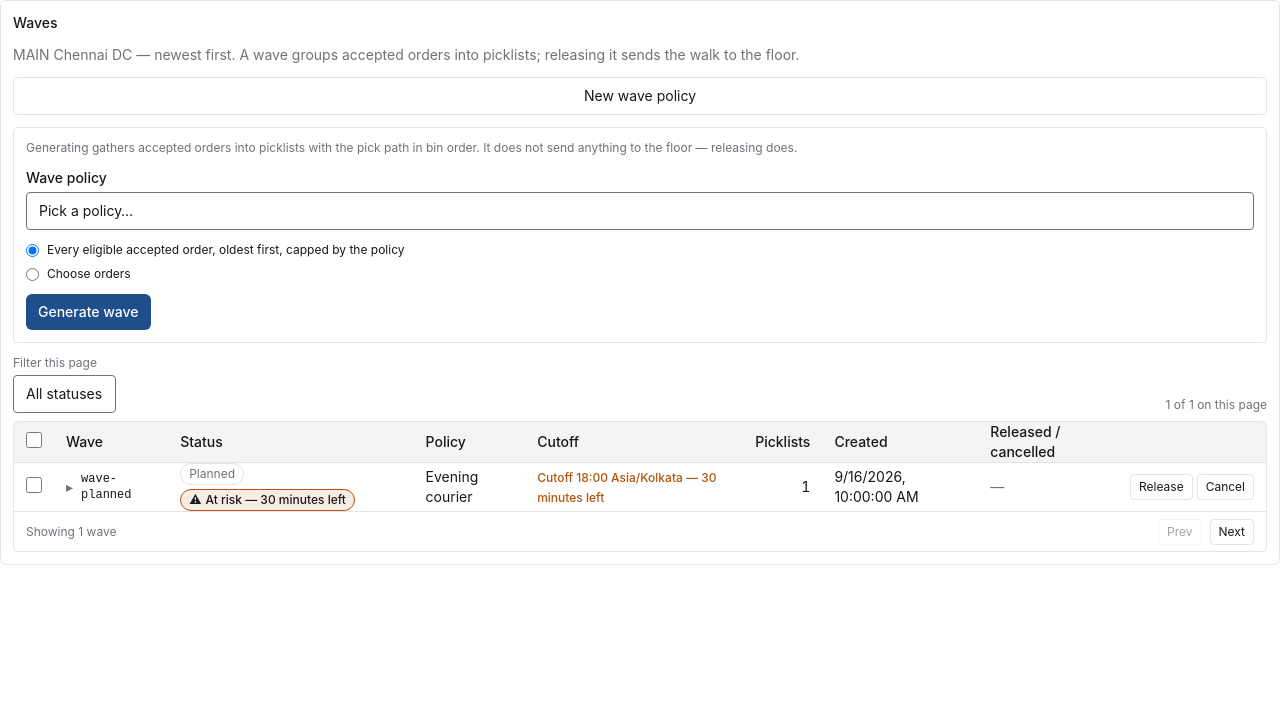
pressing the row actions › a mutation refreshes the list and returns it to page one
Step 1. Click the button "Next" → (1232, 532), box [1210,518,1254,544]
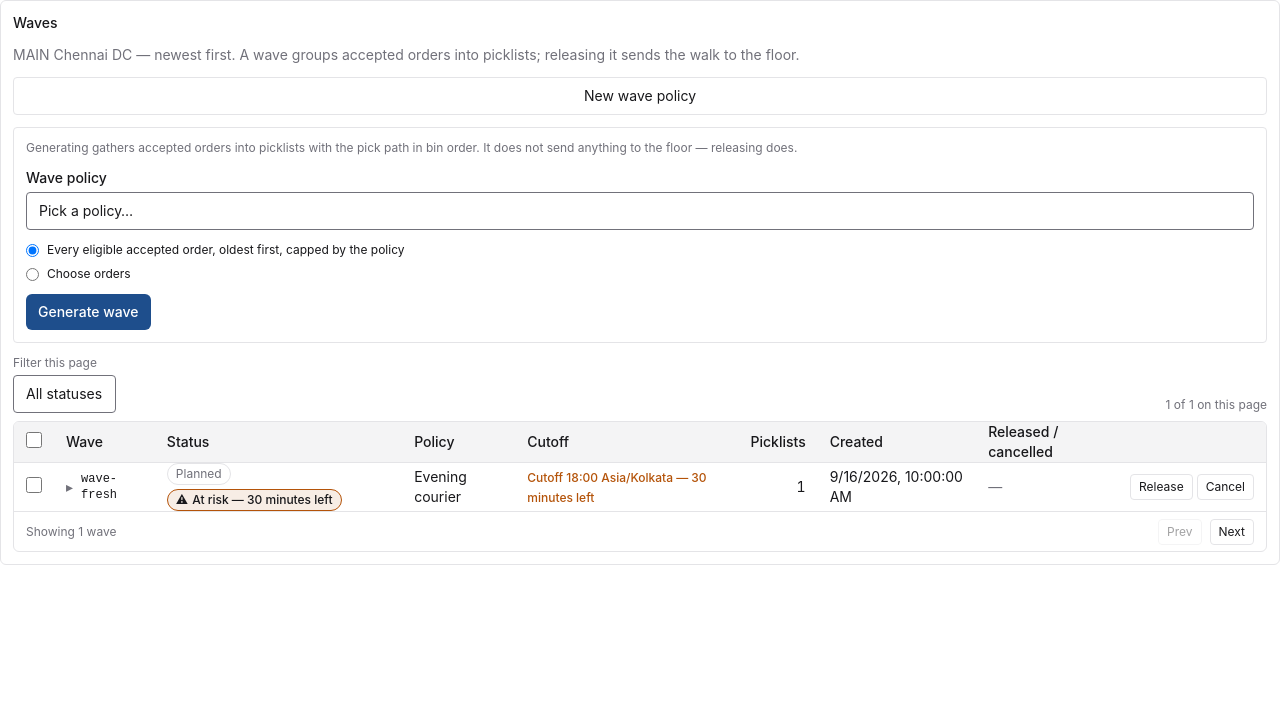
Expected: the text "wave-fresh" is shown, [81,472,117,502]
